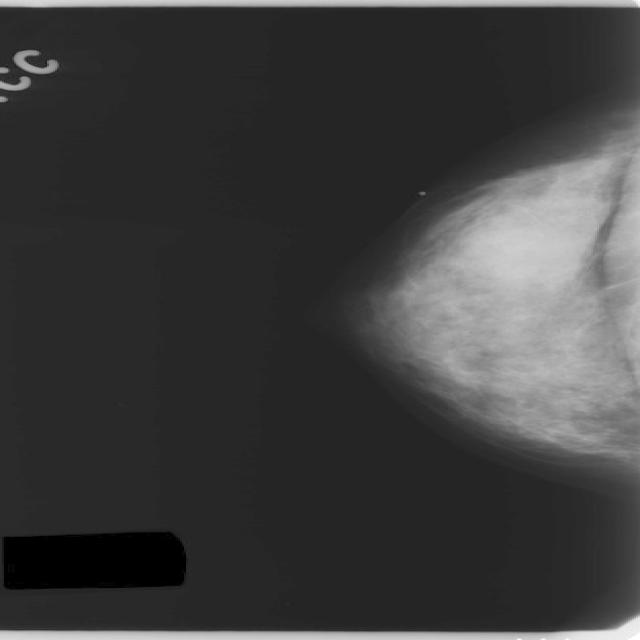tumour: (446, 198, 595, 284)
